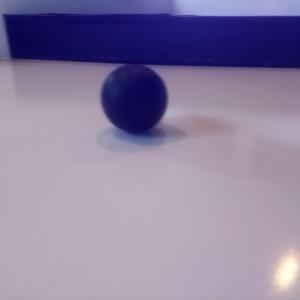zone: (3, 13, 300, 68)
